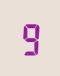nine: (19, 20, 39, 55)
